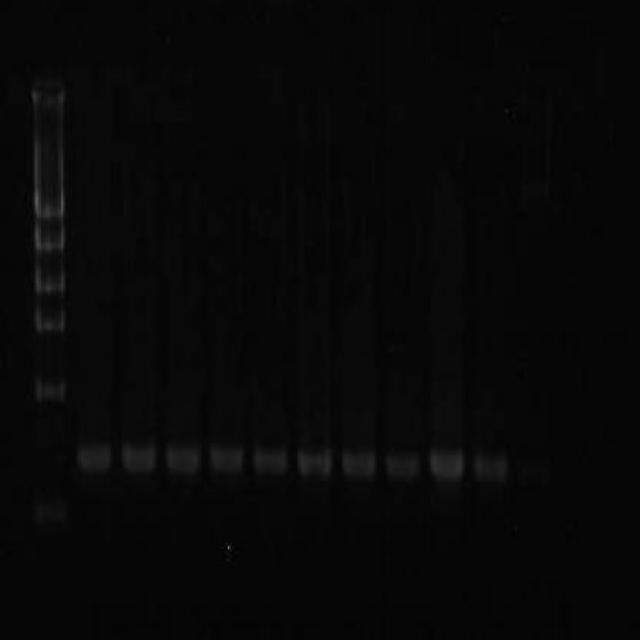B: (252, 436, 290, 482), (339, 440, 379, 482), (207, 436, 246, 478), (294, 440, 334, 480), (164, 436, 202, 478), (75, 438, 117, 476), (120, 436, 158, 478), (424, 444, 466, 482), (514, 454, 556, 491), (382, 446, 422, 484), (472, 449, 510, 486)
M: (24, 72, 74, 545)
P: (30, 499, 67, 536), (31, 261, 67, 297), (33, 371, 69, 406), (31, 306, 67, 340), (31, 220, 67, 254), (32, 188, 66, 221)
Pc: (30, 73, 68, 115)
